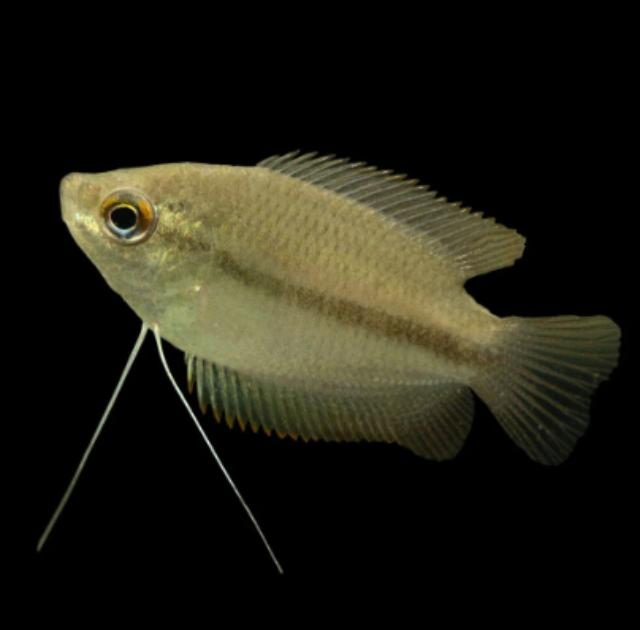Mulut: (33, 147, 109, 254)
Sirip Anal: (178, 339, 484, 467)
Sirip Ekor: (483, 286, 633, 480)
Sirip Perut: (25, 316, 308, 602)
Sirip Punggung: (244, 134, 542, 282)
